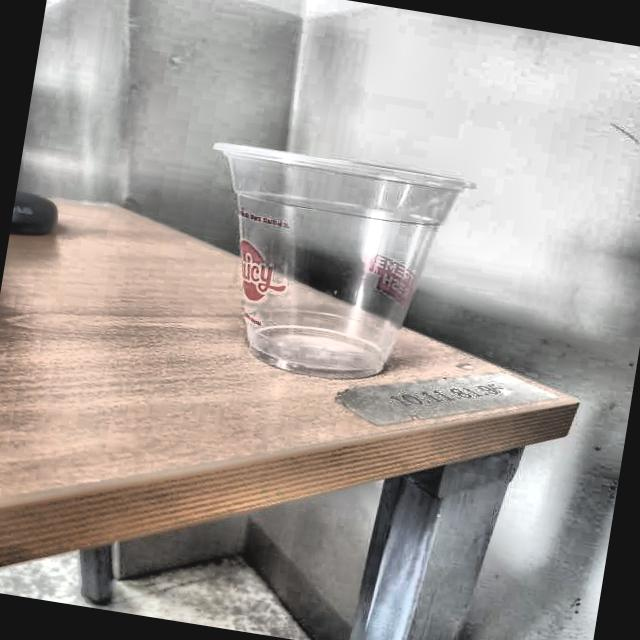plastic cup: (178, 137, 482, 397)
